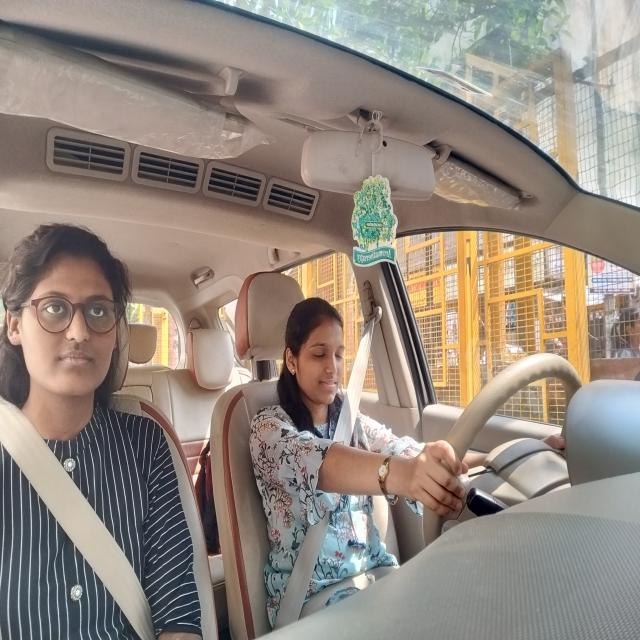drowsy: (282, 291, 352, 416)
person: (4, 220, 123, 400)
